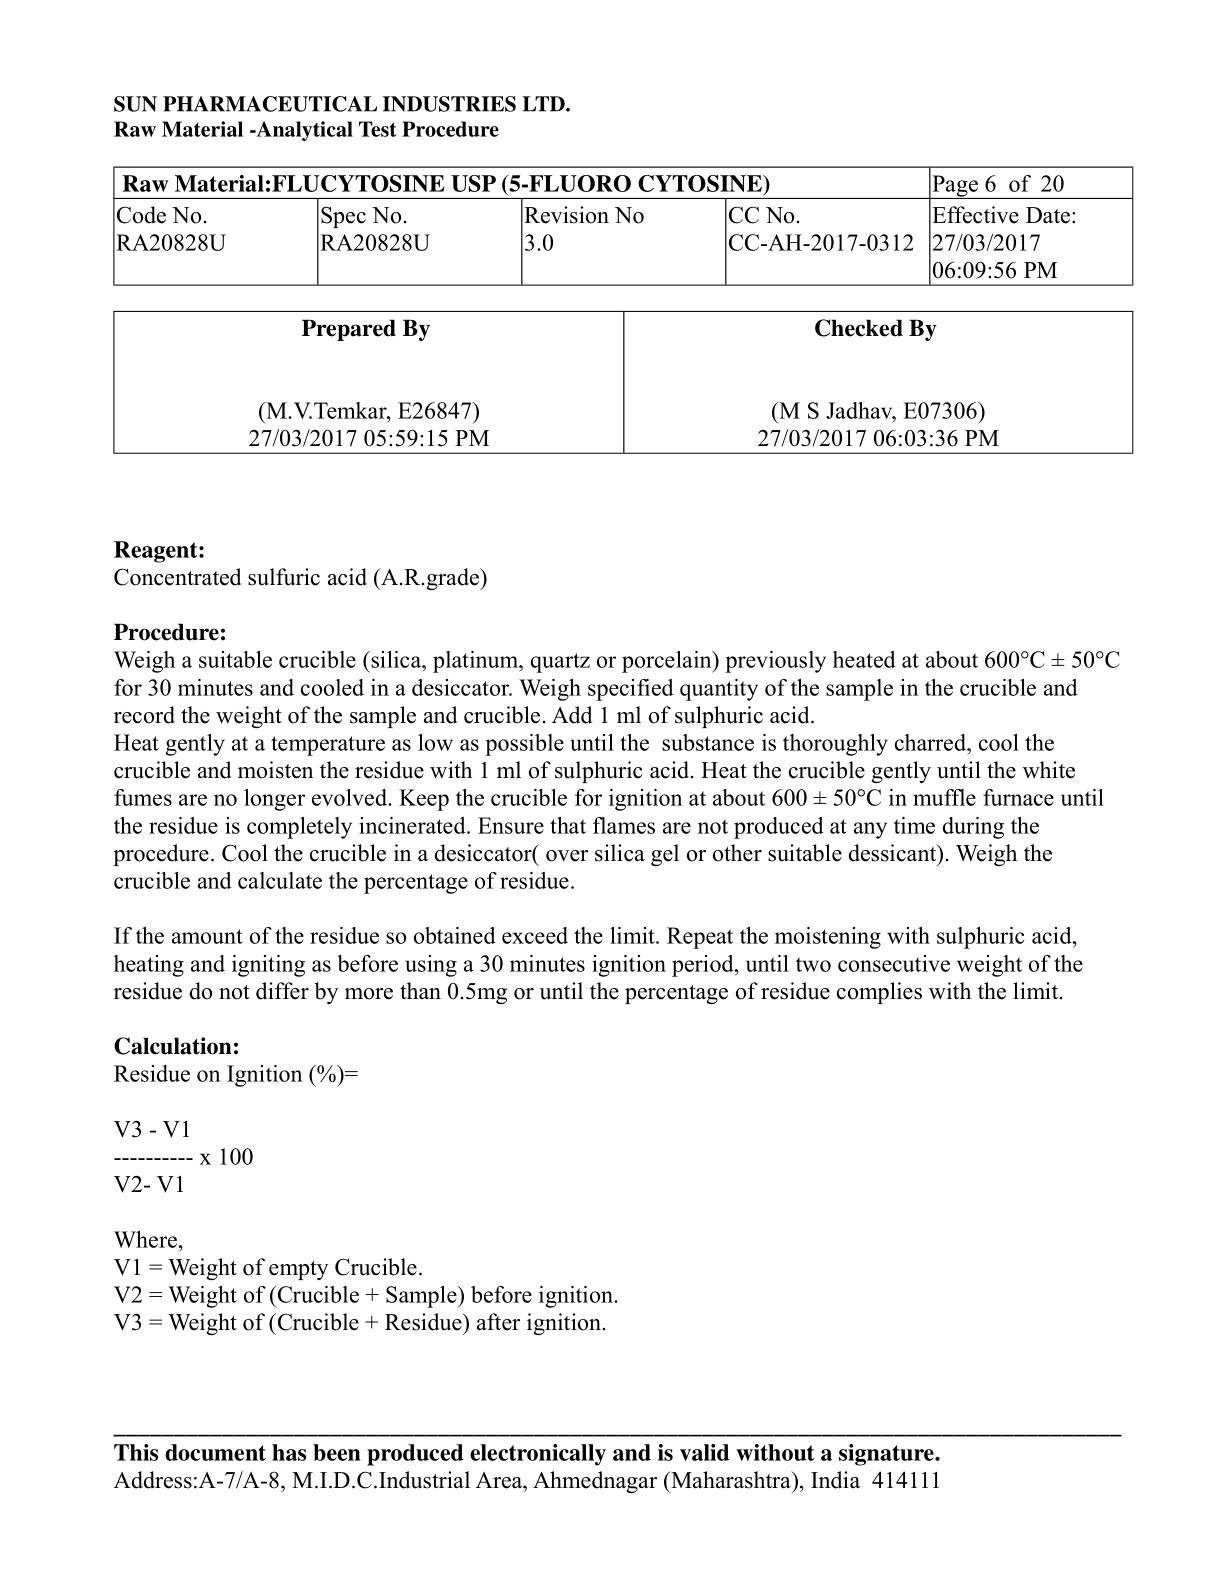full_lined: (113, 309, 1134, 453)
merged_cells: (113, 165, 1134, 285)
